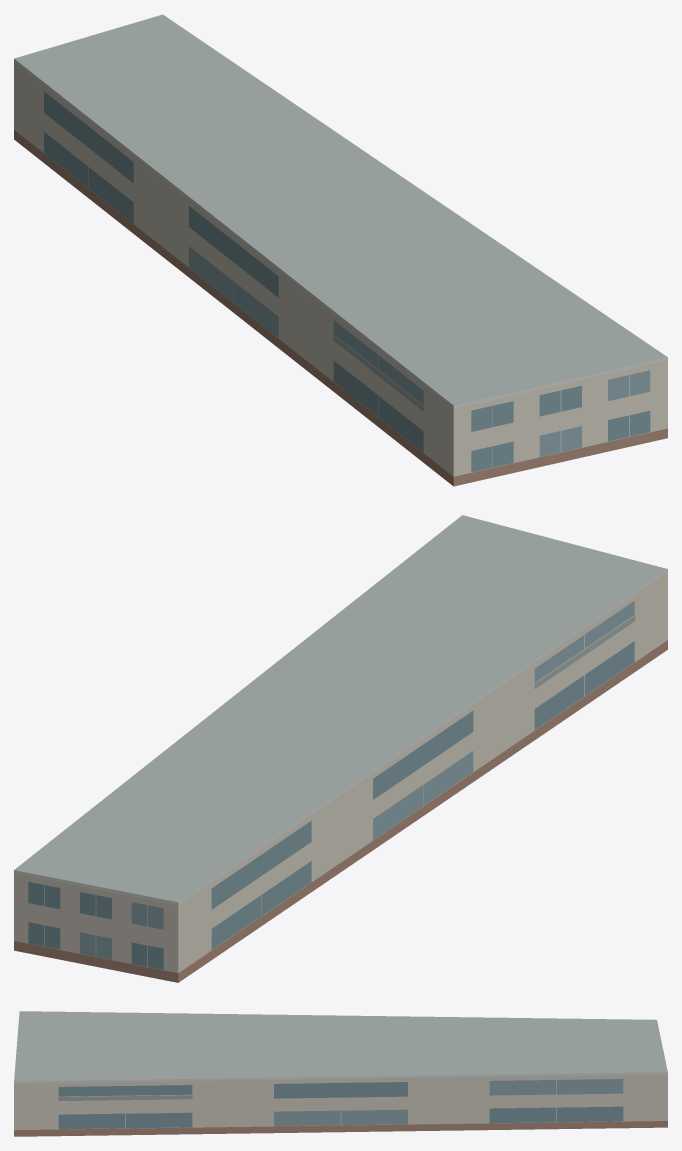
Rendered from survey-upis-32485384.glb.
3 views of the same model, one above another, from view 1: azimuth 30°, elevation 25°; view 2: azimuth 150°, elevation 25°; view 3: azimuth 270°, elevation 25° (orthographic). The views are drawn at different scales.
Parts seen in each view (by area): view 1: survey-upis-32485384.tmp; view 2: survey-upis-32485384.tmp; view 3: survey-upis-32485384.tmp.
Boxes of the visible parts, x1,y1,x2,y2 form: survey-upis-32485384.tmp: [14, 14, 667, 486]; survey-upis-32485384.tmp: [14, 515, 667, 982]; survey-upis-32485384.tmp: [14, 1011, 667, 1136].
Size of the model in its own units: 16.61 by 6.1 by 65.3.
